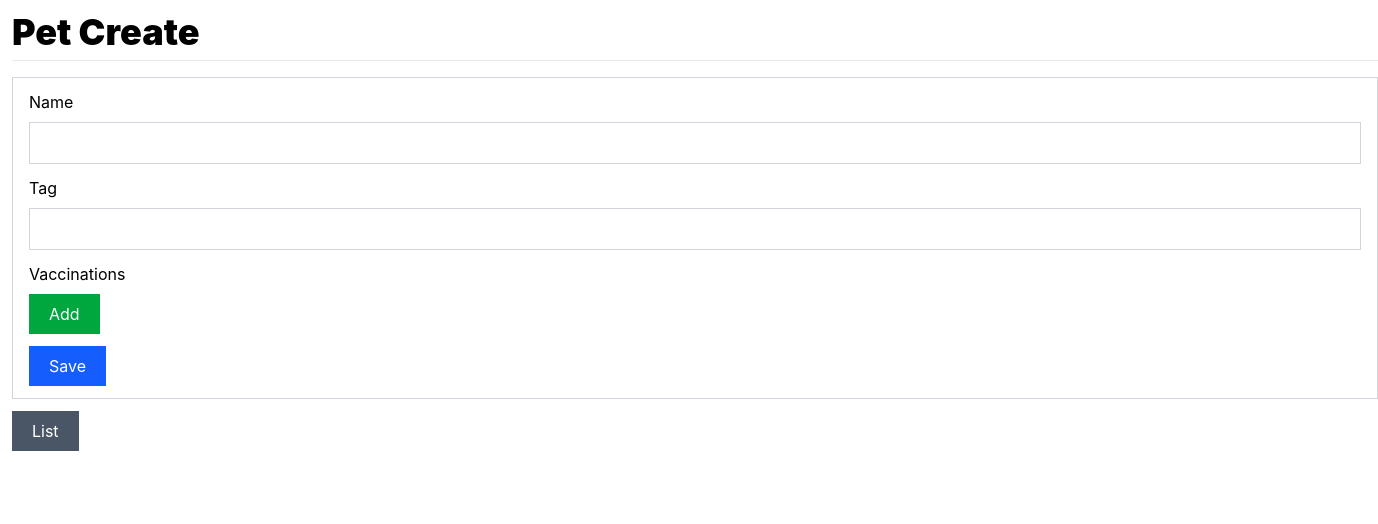
Test case: create › unprocessable entity
Click the button with test id "pet-form-submit" at (68, 366), box [29,346,106,386]
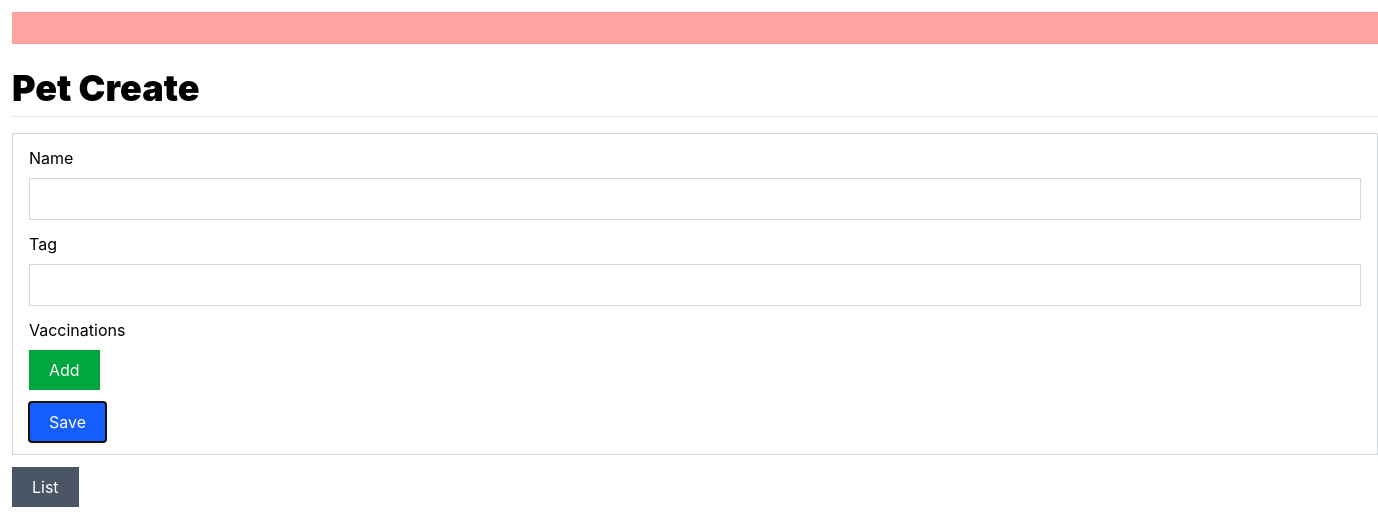
expect the element with test id "http-error" is shown: met, box [12,12,1377,44]
